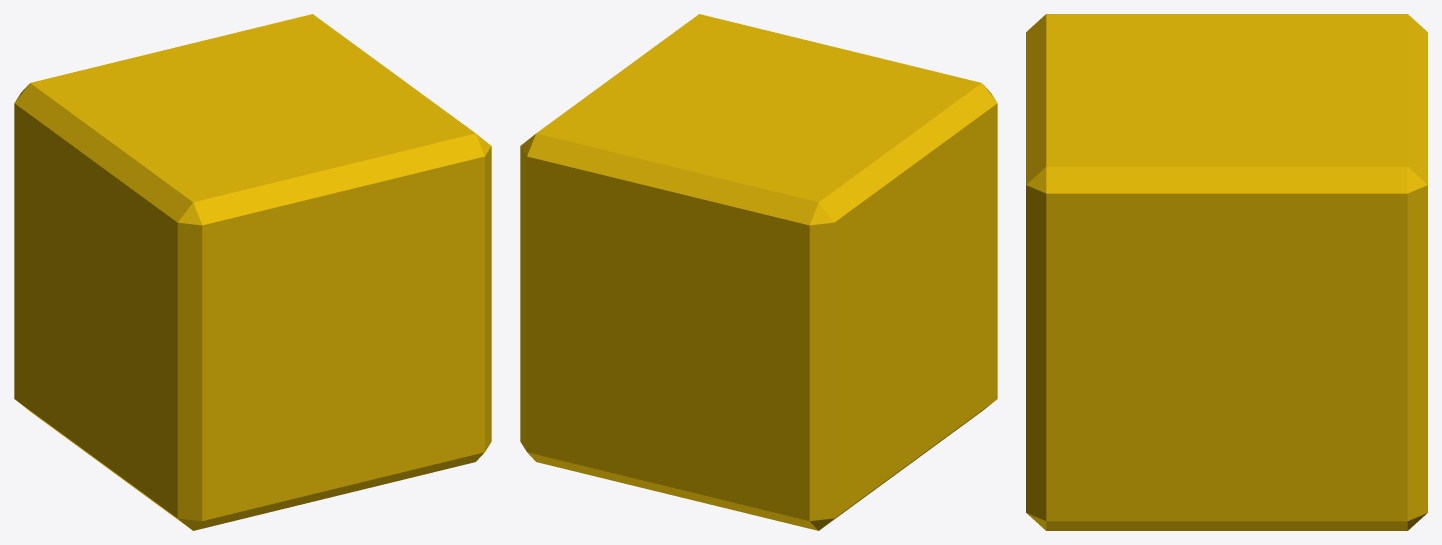
The model's file is Normalblock.fbx.
3 views of the same model, side by side, from view 1: azimuth 30°, elevation 25°; view 2: azimuth 150°, elevation 25°; view 3: azimuth 270°, elevation 25° (orthographic). The views are drawn at different scales.
Parts seen in each view (by area): view 1: pCube1; view 2: pCube1; view 3: pCube1.
Boxes of the visible parts, left/top/right/bottom form: pCube1: left=14, top=14, right=491, bottom=530; pCube1: left=520, top=14, right=997, bottom=530; pCube1: left=1026, top=14, right=1427, bottom=530.
Bounding box in the file's own units: 2 × 2 × 2.
